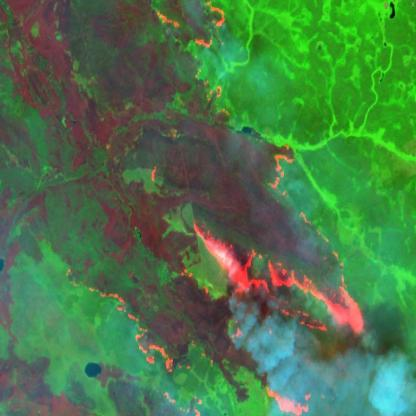fire: (64, 131, 366, 416), (150, 0, 231, 59)
